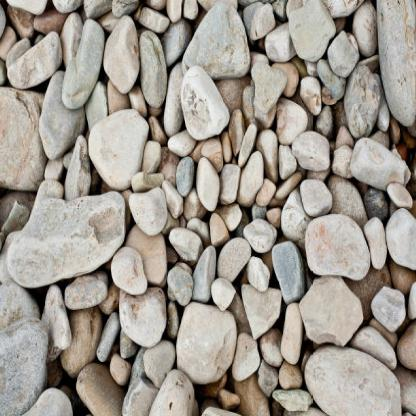Sedimentary_Limestone: (2, 186, 129, 280), (304, 334, 413, 415), (300, 212, 374, 283), (176, 65, 234, 155), (90, 95, 146, 186), (175, 295, 232, 382), (63, 19, 106, 109)
